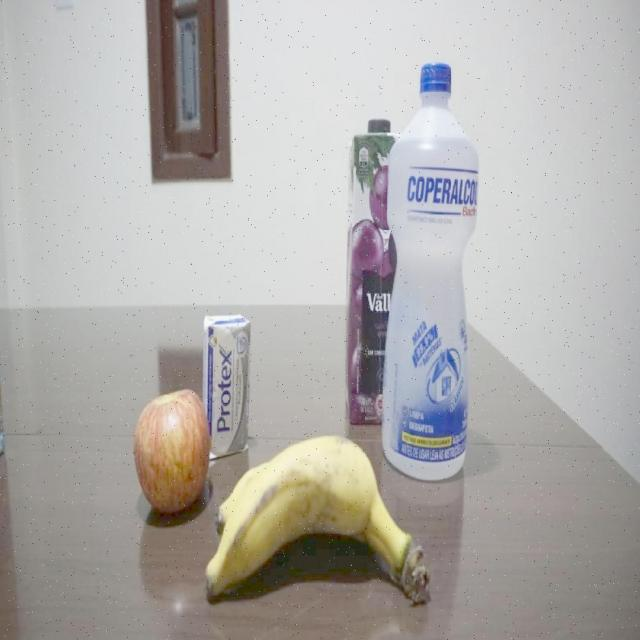AlcoholBottle: (380, 59, 480, 485)
Apple: (132, 388, 214, 520)
Banana: (204, 433, 432, 606)
Cracker: (0, 245, 7, 466)
Soap: (202, 315, 252, 462)
